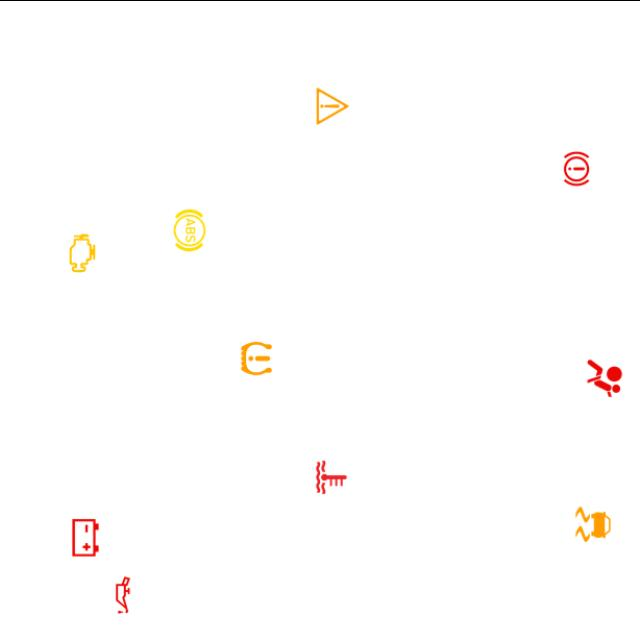Anti Lock Braking System: (166, 206, 212, 252)
Braking System Issue: (554, 145, 600, 191)
Charging System Issue: (63, 514, 109, 560)
Check Engine: (60, 229, 106, 275)
Electronic Stability Problem -ESP-: (570, 501, 616, 546)
Engine Overheating Warning Light: (308, 454, 354, 499)
Low Engine Oil Warning Light: (100, 571, 146, 617)
Low Tire Pressure Warning Light: (233, 334, 280, 380)
Master warning light: (310, 82, 356, 128)
SRS-Airbag: (582, 354, 628, 400)
